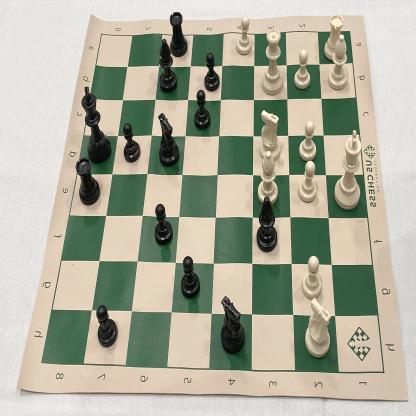bishop: (257, 108, 282, 164)
black-bishop: (156, 36, 178, 98), (256, 195, 278, 254), (95, 302, 120, 350)
black-king: (79, 81, 113, 163)
black-knight: (218, 292, 246, 356), (156, 110, 180, 169)
black-pawn: (152, 200, 174, 248), (180, 254, 200, 301), (121, 119, 141, 165), (193, 88, 211, 132), (204, 50, 222, 92)
black-rook: (73, 154, 102, 209), (168, 8, 189, 59)
white-bishop: (325, 34, 352, 92), (257, 149, 278, 204)
white-king: (332, 129, 365, 211)
white-knight: (304, 294, 334, 360)
white-pawn: (300, 254, 324, 300), (295, 160, 320, 204), (296, 118, 318, 164), (292, 45, 312, 92), (234, 13, 254, 58)
white-queen: (259, 24, 285, 97)
white-rook: (322, 12, 346, 64)
